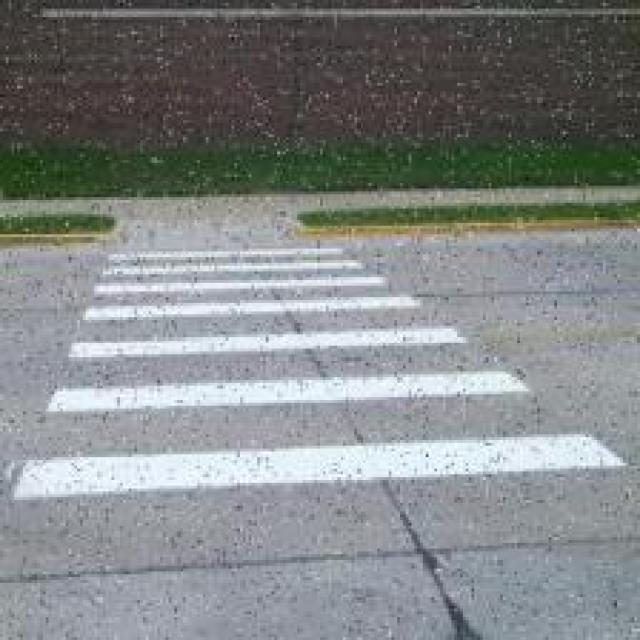crosswalk: (14, 238, 626, 502)
